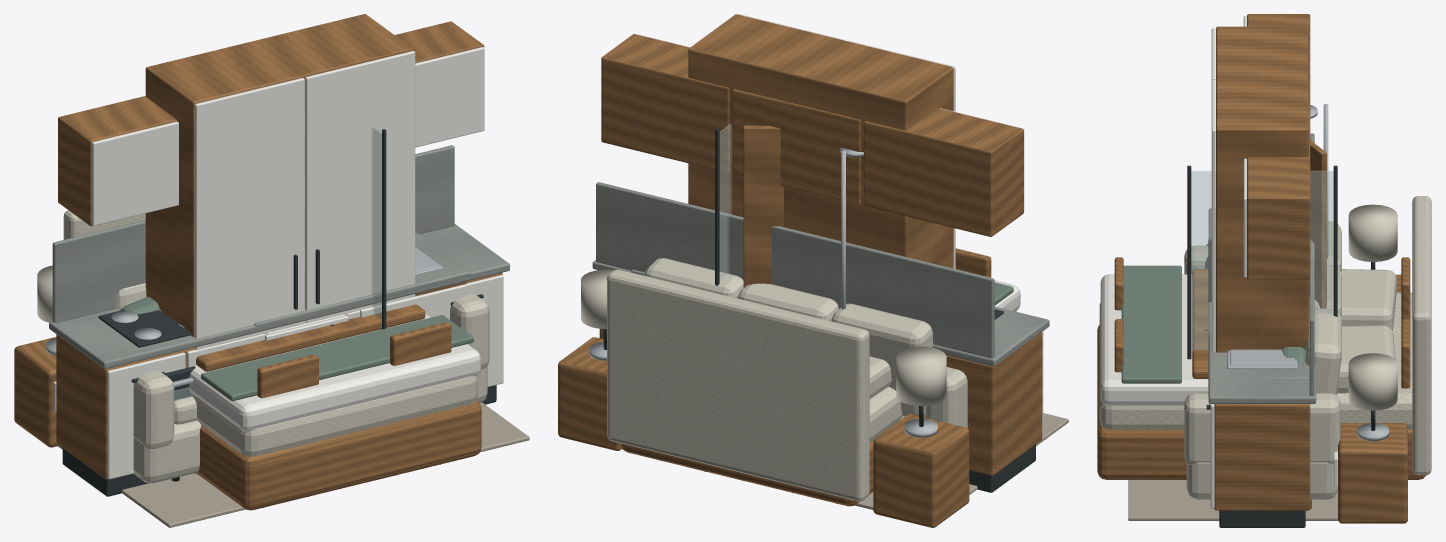
Rendered from interiores.glb.
The picture shows the model from 3 angles, left to right: view 1: azimuth 30°, elevation 25°; view 2: azimuth 150°, elevation 25°; view 3: azimuth 270°, elevation 25°; orthographic projection. The views are drawn at different scales.
Visible parts, largest first — view 1: closet__Laca_marfil, kitchen__Laca_marfil, closet__Roble_natural, bed__Roble_natural, kitchen__Piedra_gris, kitchen__Roble_natural, bed__Lino_tapizado, bed__Laca_marfil, sofa__Lino_tapizado, table__Roble_natural, bed__Tela_oliva, coffee__Alfombra_arena (+6 smaller); view 2: bed__Lino_tapizado, kitchen__Roble_natural, closet__Roble_natural, kitchen__Piedra_gris, bed__Roble_natural, sofa__Lino_tapizado, door__Roble_natural, shower__Vidrio, kitchen__Grafito, shower__Acero_cepillado, table__Roble_natural, bed__Acero_cepillado (+3 smaller); view 3: closet__Roble_natural, bed__Lino_tapizado, kitchen__Roble_natural, bed__Roble_natural, sofa__Lino_tapizado, bed__Tela_oliva, shower__Vidrio, bed__Laca_marfil, table__Roble_natural, coffee__Alfombra_arena, kitchen__Piedra_gris, door__Roble_natural (+8 smaller).
Boxes of the visible parts, x1,y1,x2,y2 form: closet__Laca_marfil: (194, 51, 415, 474); kitchen__Laca_marfil: (92, 47, 503, 479); closet__Roble_natural: (145, 14, 413, 473); bed__Roble_natural: (14, 337, 481, 510); kitchen__Piedra_gris: (49, 145, 509, 369); kitchen__Roble_natural: (56, 21, 502, 479); bed__Lino_tapizado: (37, 210, 477, 456); bed__Laca_marfil: (53, 313, 480, 431); sofa__Lino_tapizado: (116, 283, 489, 483); table__Roble_natural: (196, 304, 451, 398); bed__Tela_oliva: (201, 315, 473, 401); coffee__Alfombra_arena: (58, 402, 529, 527); bed__Lino_tapizado: (581, 269, 1016, 501); kitchen__Roble_natural: (599, 34, 1042, 475); closet__Roble_natural: (688, 14, 953, 268); kitchen__Piedra_gris: (592, 182, 1049, 366); bed__Roble_natural: (558, 337, 969, 527); sofa__Lino_tapizado: (644, 258, 967, 428); door__Roble_natural: (743, 125, 783, 287); shower__Vidrio: (720, 124, 731, 280); kitchen__Grafito: (969, 309, 1035, 492); shower__Acero_cepillado: (840, 147, 863, 309); table__Roble_natural: (955, 248, 991, 277); bed__Acero_cepillado: (589, 342, 937, 437); closet__Roble_natural: (1216, 26, 1308, 352); bed__Lino_tapizado: (1099, 196, 1431, 475); kitchen__Roble_natural: (1214, 14, 1310, 510); bed__Roble_natural: (1097, 274, 1425, 523); sofa__Lino_tapizado: (1184, 221, 1341, 499); bed__Tela_oliva: (1121, 265, 1181, 383); shower__Vidrio: (1191, 171, 1333, 358); bed__Laca_marfil: (1100, 274, 1337, 486); table__Roble_natural: (1114, 257, 1410, 388); coffee__Alfombra_arena: (1128, 480, 1338, 520); kitchen__Piedra_gris: (1208, 133, 1316, 403); door__Roble_natural: (1309, 140, 1326, 308).
Bounding box in the file's own units: 2.76 × 2.45 × 2.06.
Materials: 10 (3 with a texture image).
